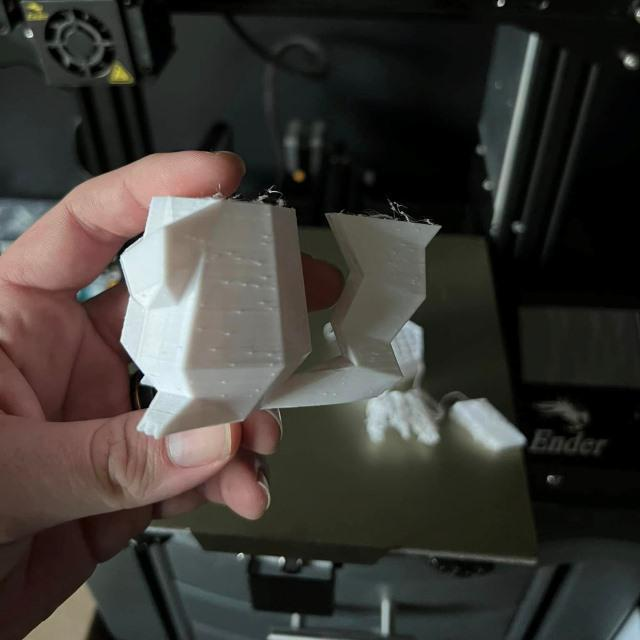zits: (260, 230, 274, 243), (252, 258, 264, 271), (222, 330, 234, 340), (206, 344, 218, 354), (228, 361, 240, 370), (238, 280, 248, 290), (264, 349, 274, 359), (220, 278, 230, 288), (255, 298, 265, 308), (260, 274, 270, 284), (224, 250, 234, 258), (236, 308, 244, 318), (218, 378, 228, 386), (252, 386, 262, 394), (254, 281, 262, 290), (266, 362, 276, 369), (247, 349, 255, 355)
